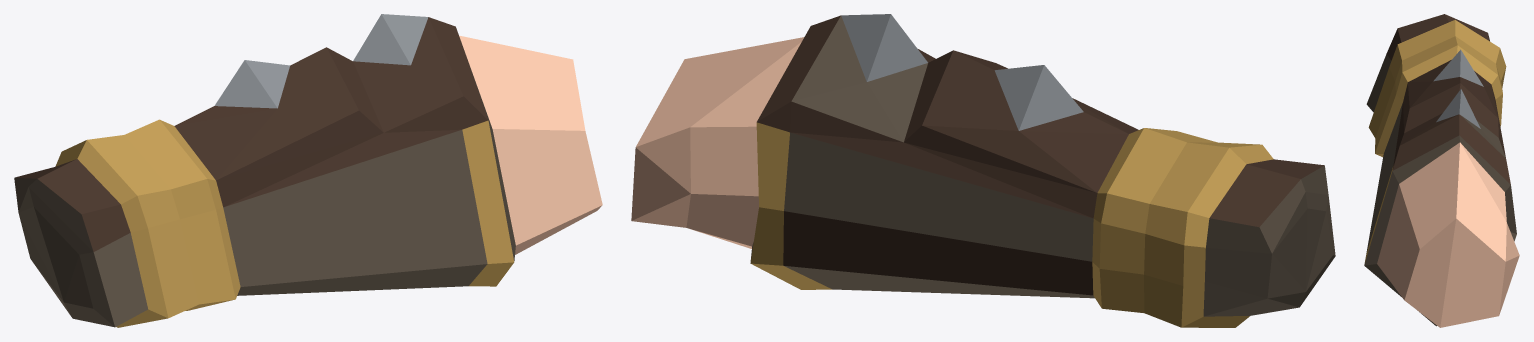
File: Chr_ArmLowerRight_Female_01_Static.fbx
3 renders of one model, left to right at view 1: azimuth 30°, elevation 25°; view 2: azimuth 150°, elevation 25°; view 3: azimuth 270°, elevation 25°, orthographic. The views are drawn at different scales.
Parts seen in each view (by area): view 1: Chr_ArmLowerRight_Female_01_Static; view 2: Chr_ArmLowerRight_Female_01_Static; view 3: Chr_ArmLowerRight_Female_01_Static.
Part boxes in pixels (x1=…): Chr_ArmLowerRight_Female_01_Static: x1=14, y1=14, x2=602, y2=327; Chr_ArmLowerRight_Female_01_Static: x1=631, y1=14, x2=1335, y2=327; Chr_ArmLowerRight_Female_01_Static: x1=1364, y1=14, x2=1519, y2=327.
Size of the model in its own units: 0.2912 by 0.1389 by 0.0962.
